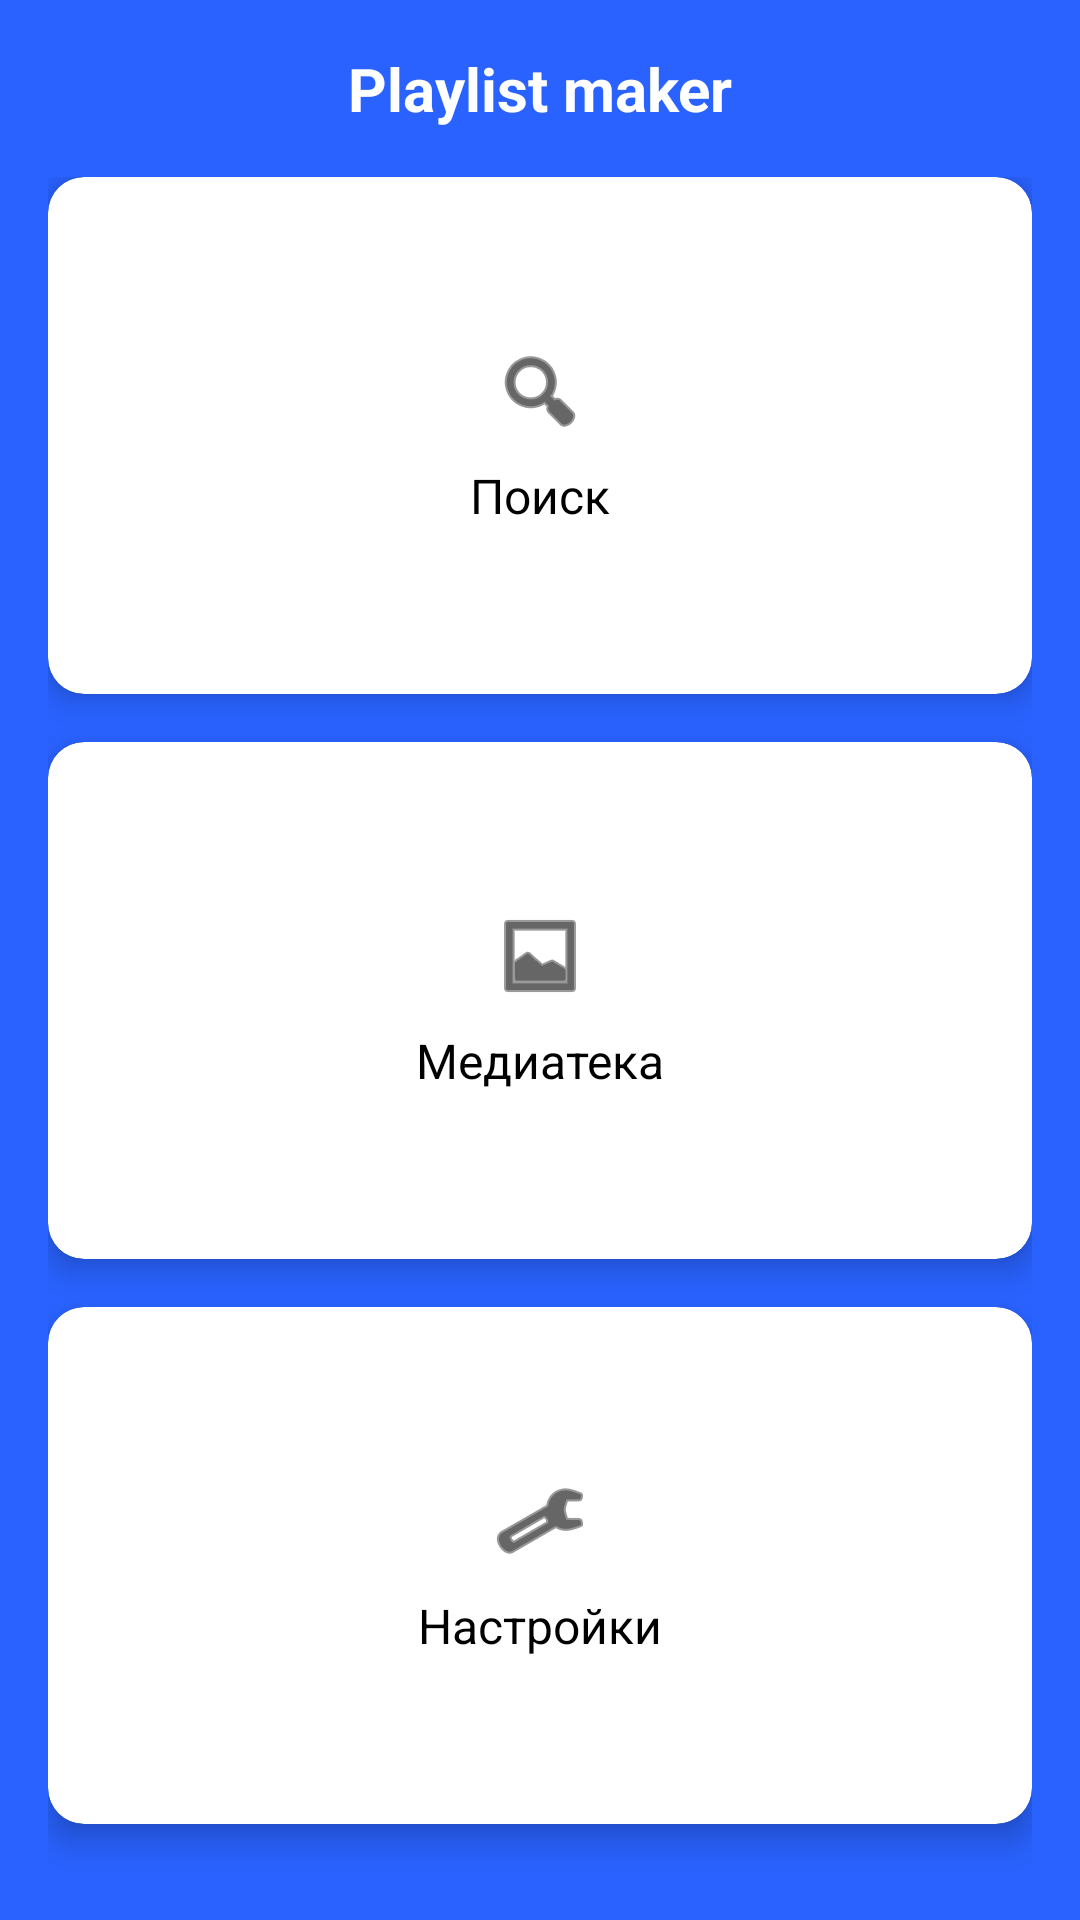

Icon click points for this 1080*1920 phone screenshot, format (x=x, y=y):
gallery: (x=540, y=956)
manage: (x=540, y=1521)
search: (x=540, y=391)
